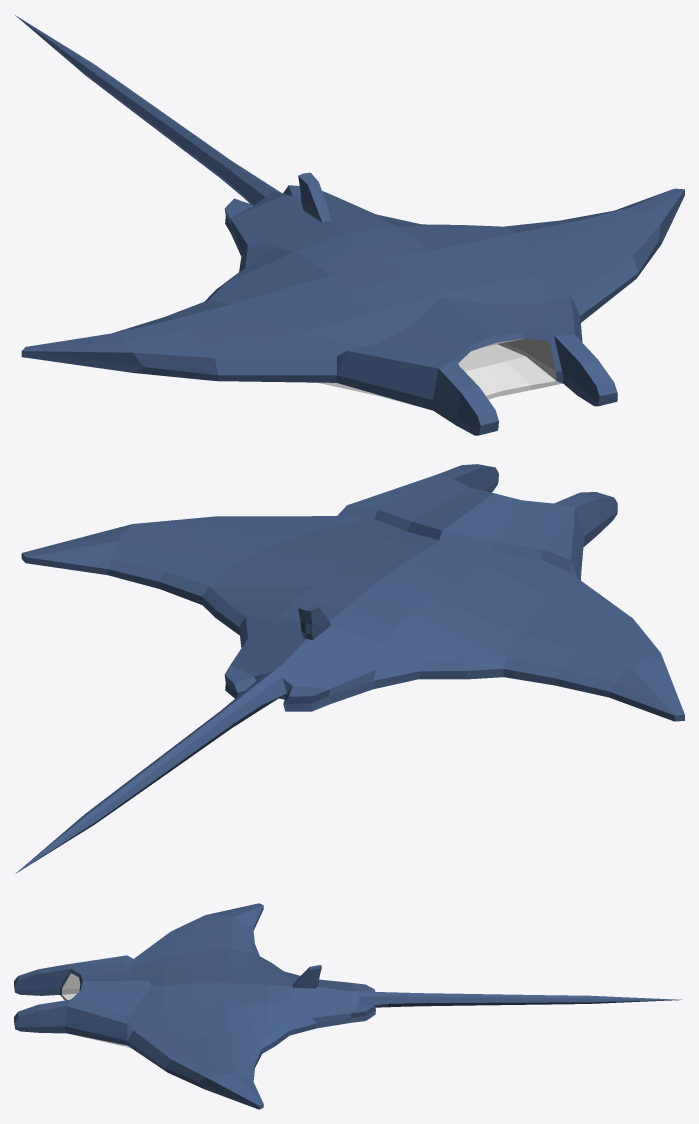
File: ocean-2.glb
3 views of the same model, one above another, from view 1: azimuth 30°, elevation 25°; view 2: azimuth 150°, elevation 25°; view 3: azimuth 270°, elevation 25° (orthographic). The views are drawn at different scales.
Parts seen in each view (by area): view 1: MantaRay; view 2: MantaRay; view 3: MantaRay.
Boxes of the visible parts, x1,y1,x2,y2 form: MantaRay: (15,15,684,435); MantaRay: (15,464,684,873); MantaRay: (14,903,682,1109).
Bounding box in the file's own units: 8.39 × 1.34 × 11.73.
